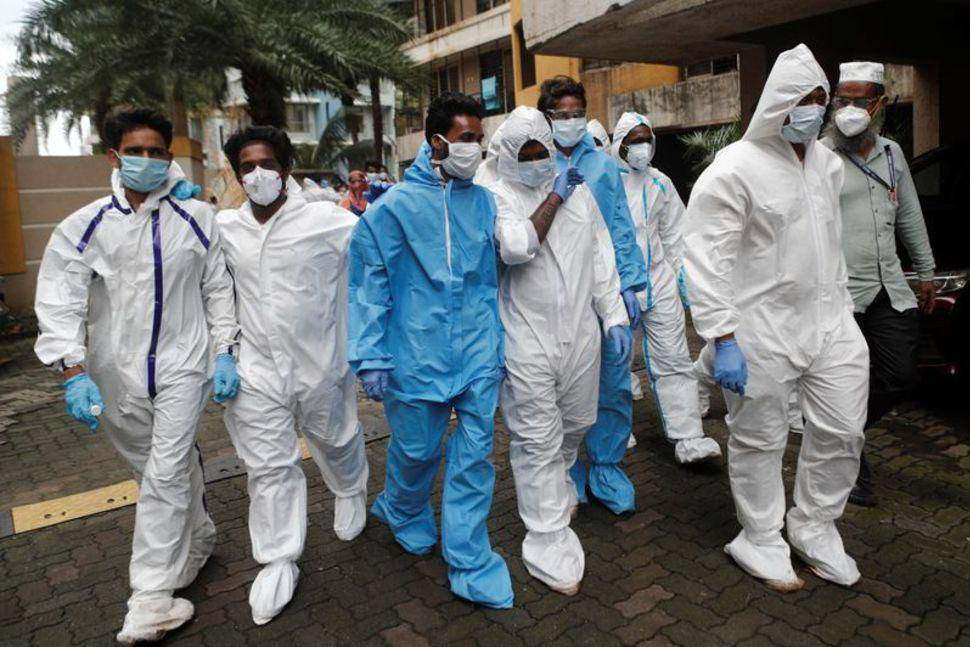Coverall: (717, 132, 854, 547), (83, 200, 212, 566), (363, 185, 492, 544), (220, 202, 348, 553), (501, 182, 597, 528), (626, 171, 679, 450)
Gloves: (709, 332, 750, 396), (60, 373, 106, 430), (208, 347, 243, 405), (605, 318, 634, 367), (362, 366, 389, 402)
with_mask: (238, 155, 288, 206), (833, 89, 877, 143), (120, 142, 168, 191), (784, 89, 824, 142), (445, 128, 481, 178), (517, 147, 552, 190), (553, 106, 585, 150), (624, 130, 654, 172)
